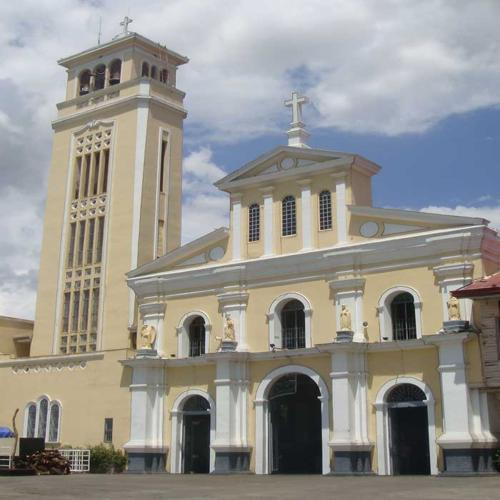Manaoag Church: (21, 9, 493, 479)
